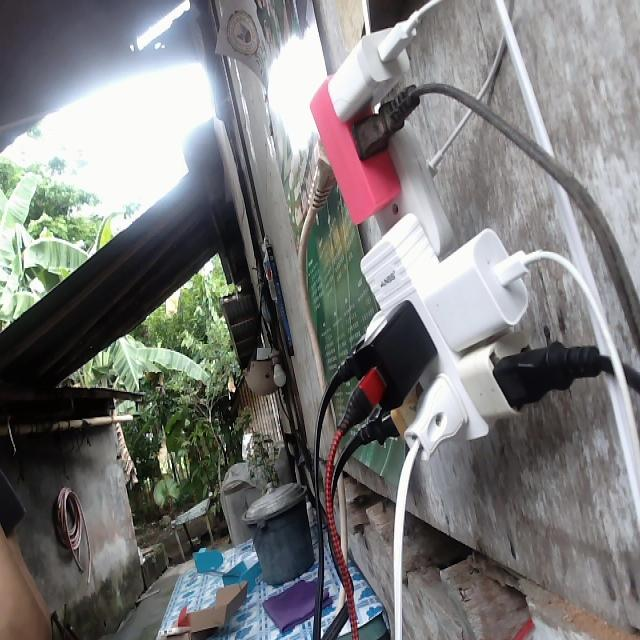-: (295, 11, 633, 472)
